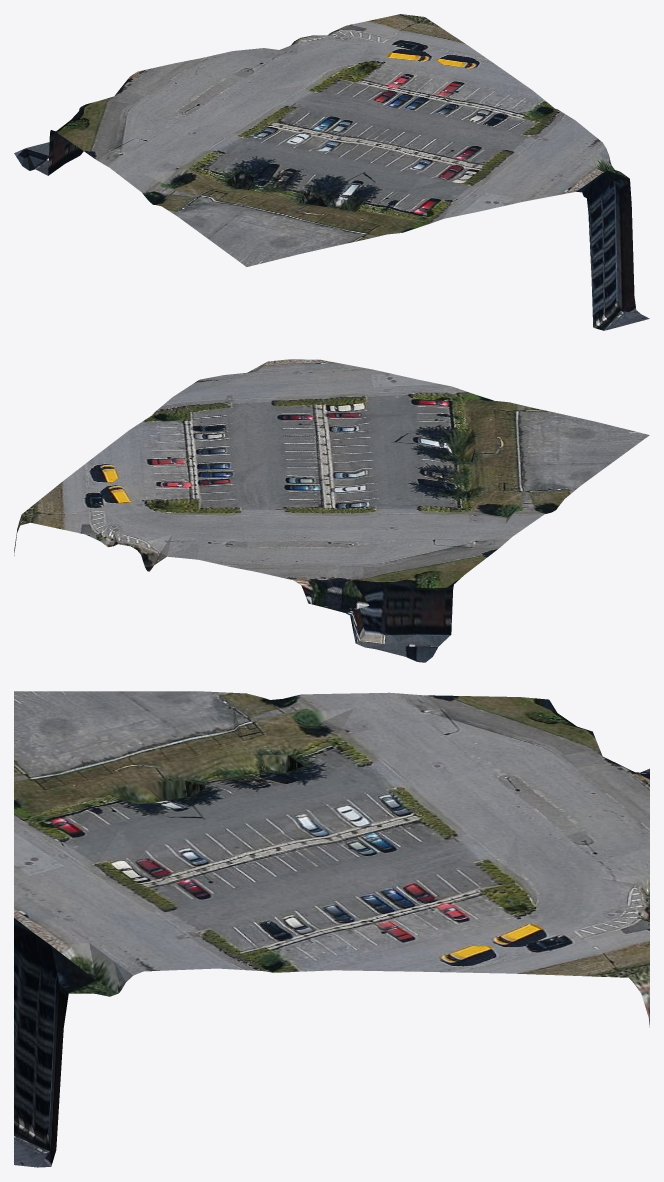
The model's file is map_15_8176_13787.dae.
3 views of the same model, one above another, from view 1: azimuth 30°, elevation 25°; view 2: azimuth 150°, elevation 25°; view 3: azimuth 270°, elevation 25° (orthographic). The views are drawn at different scales.
Visible parts, largest first — view 1: Ter0; view 2: Ter0; view 3: Ter0.
Part boxes in pixels (bbox=[...]): Ter0: bbox=[14, 14, 649, 330]; Ter0: bbox=[14, 359, 649, 662]; Ter0: bbox=[14, 691, 649, 1167].
Size of the model in its own units: 63.88 by 63.88 by 23.02.
Materials: 2 (2 with a texture image).
